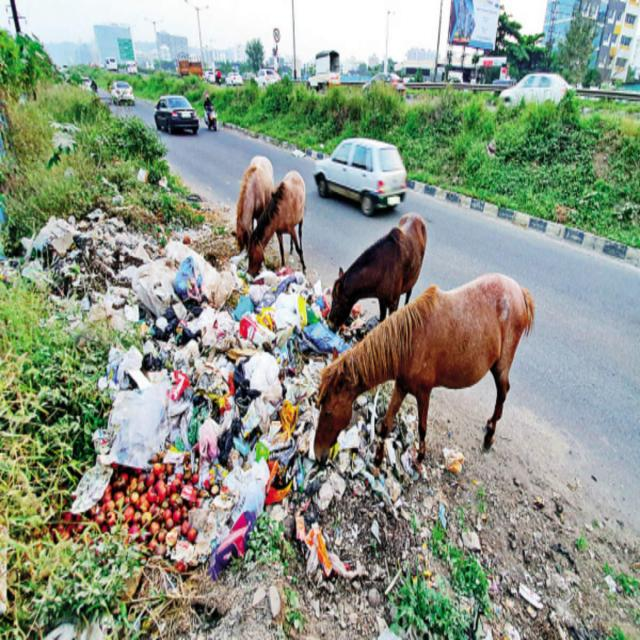garbage: (0, 165, 555, 640)
